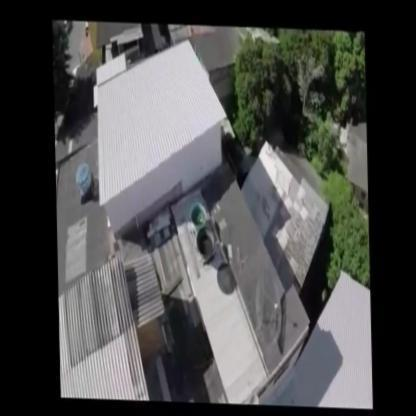agua: (196, 229, 214, 261), (190, 200, 206, 231)
